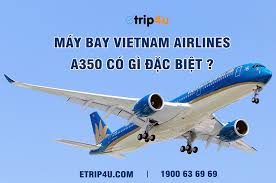maybay_dansu: (13, 63, 266, 157)
